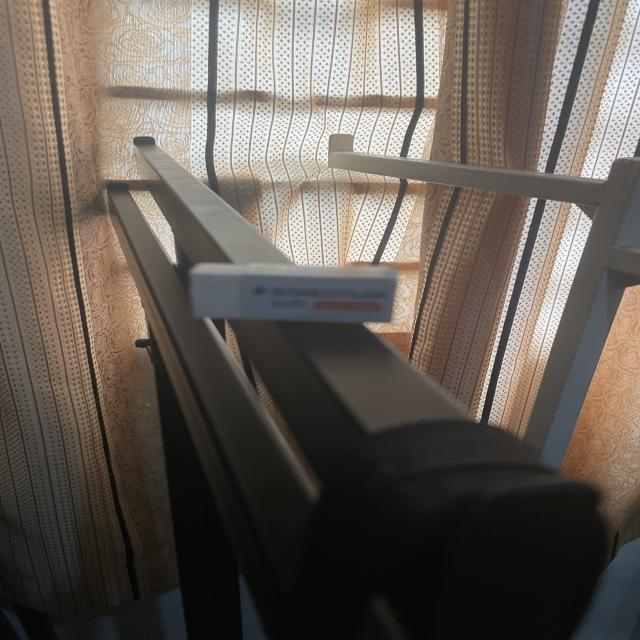eraser: (189, 263, 397, 323)
